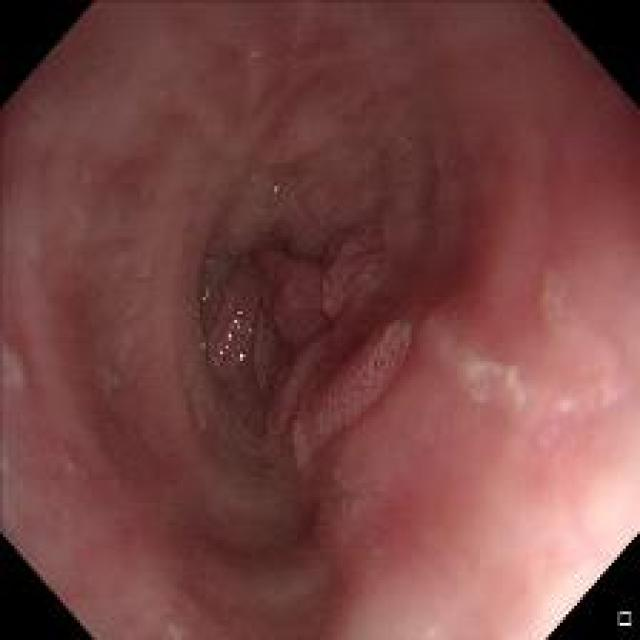saturation: (502, 518, 632, 635)
specularity: (218, 311, 252, 369), (196, 254, 215, 309), (269, 165, 282, 206)
